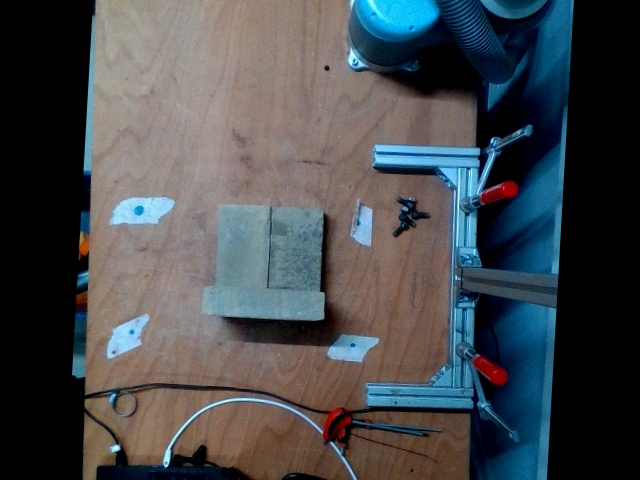brick-side: (201, 285, 323, 322)
